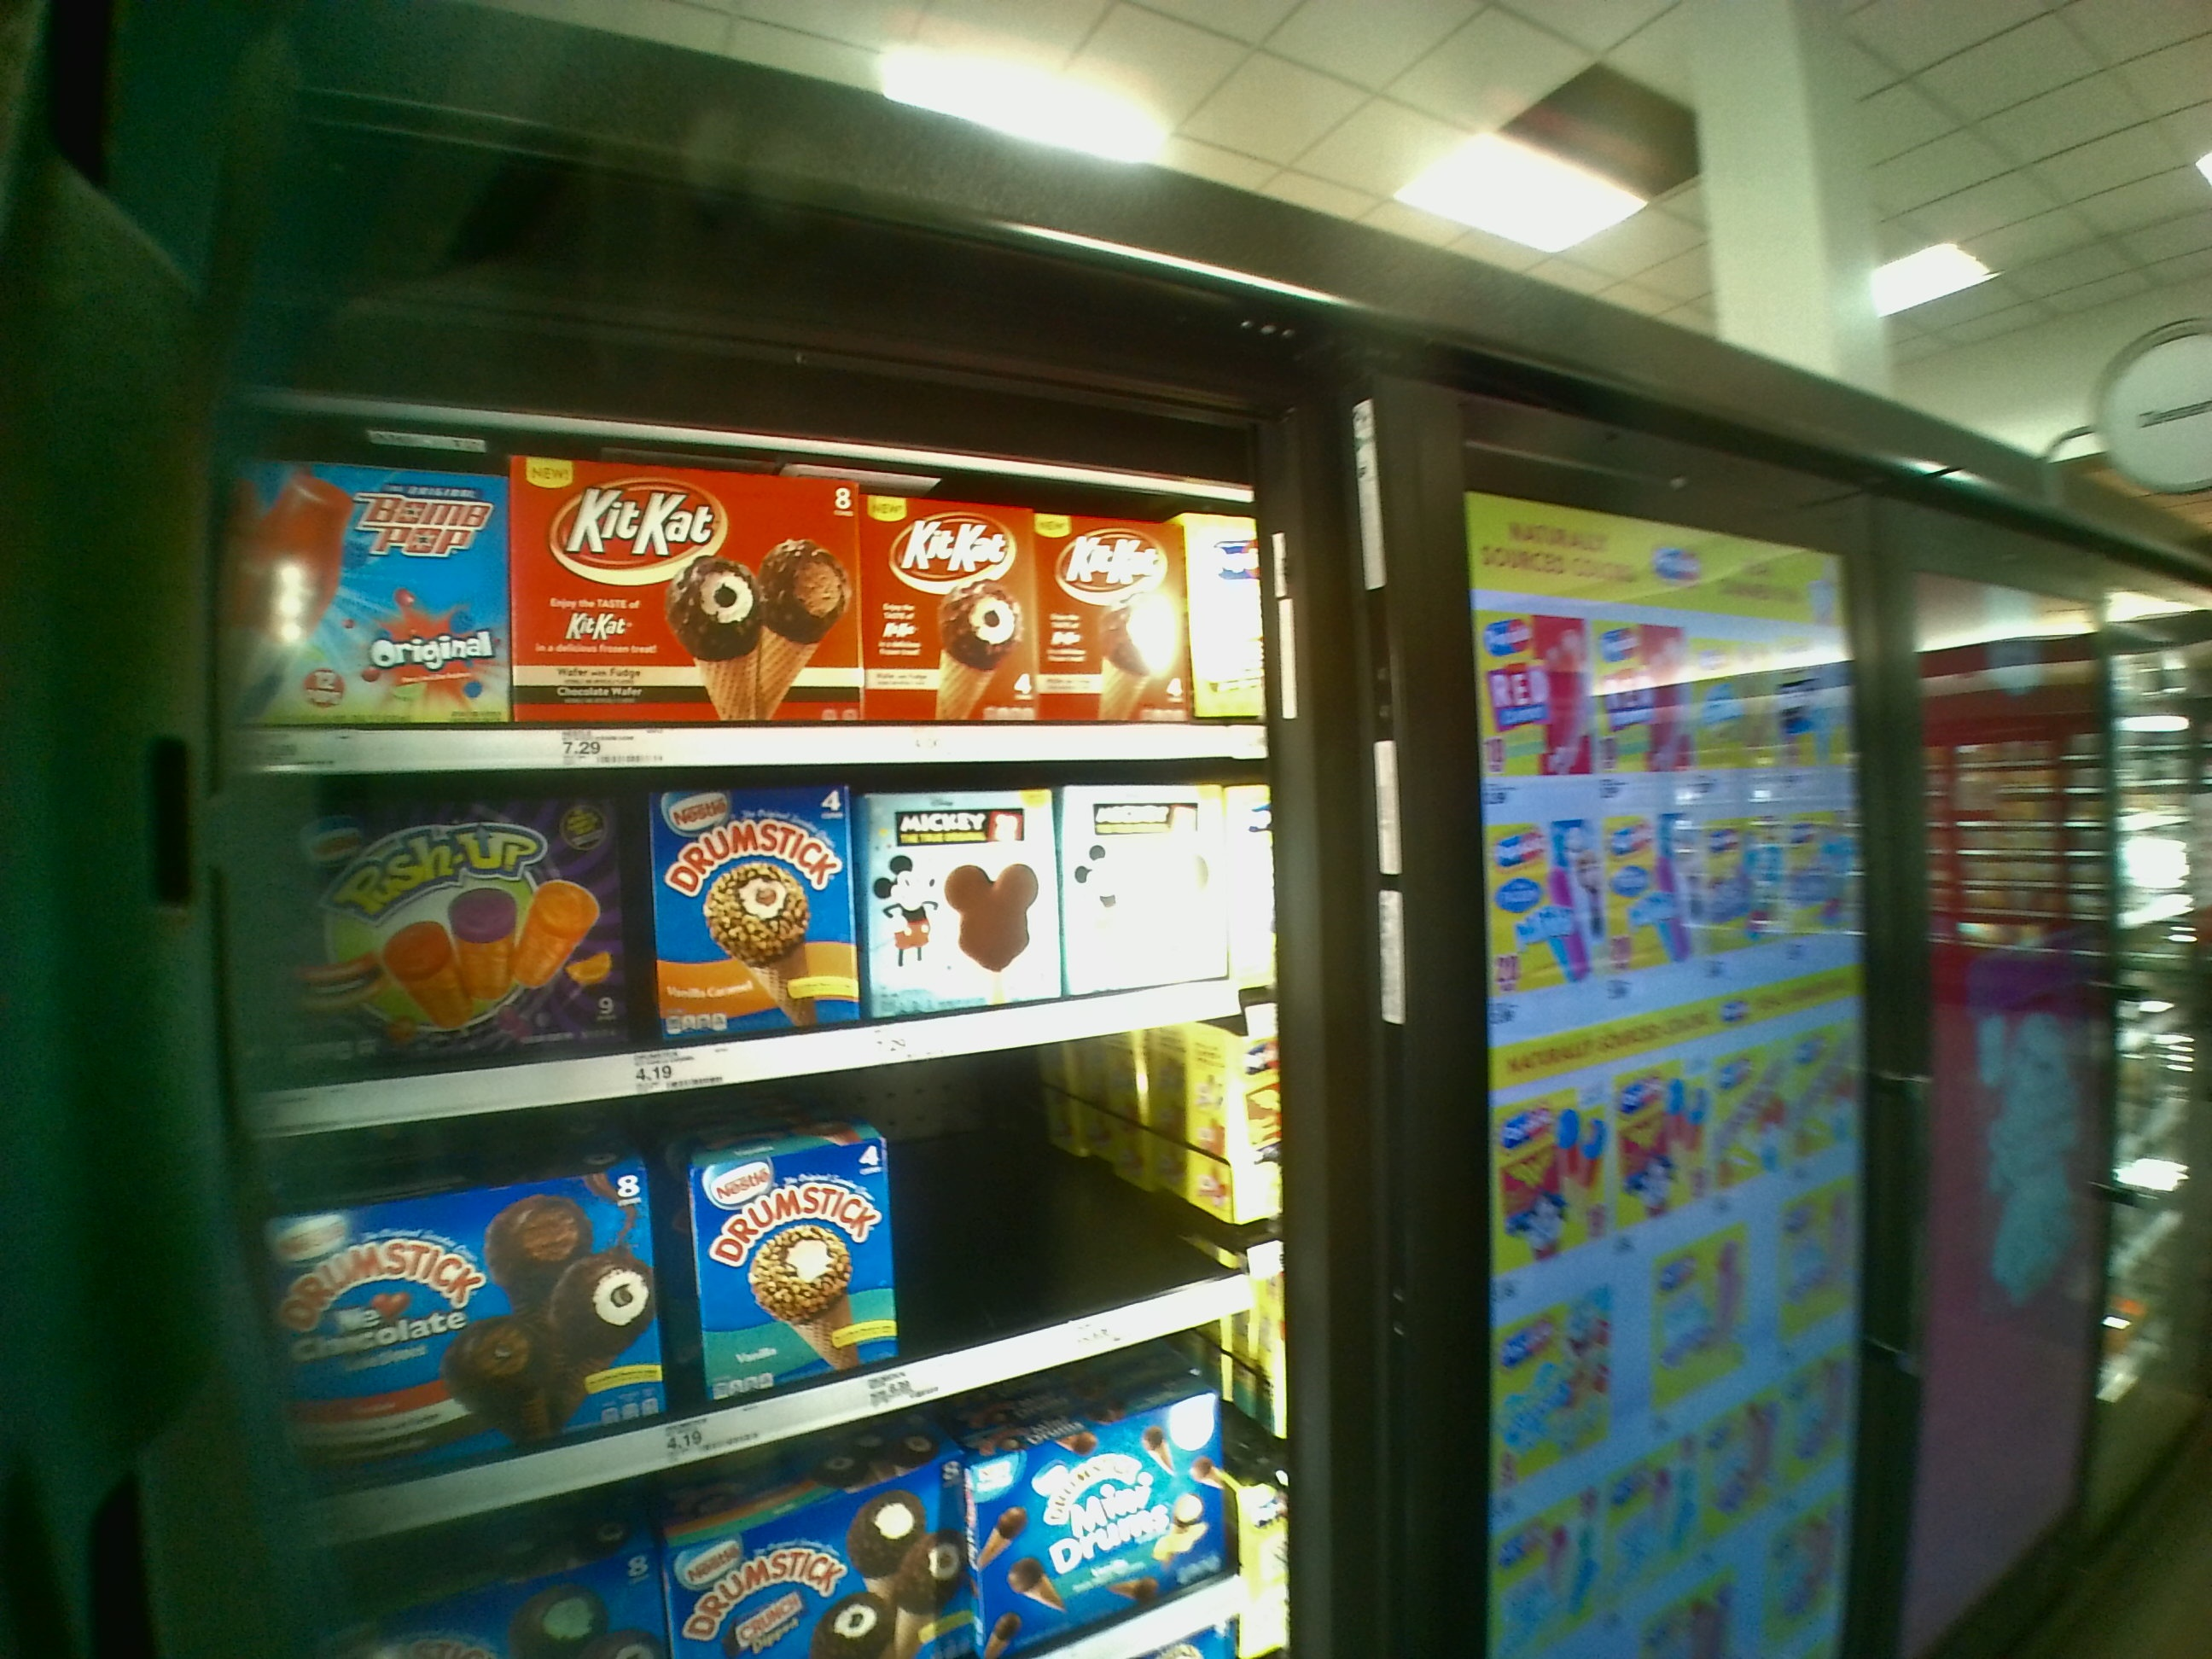shelf: (254, 1070, 1287, 1455), (206, 416, 1278, 769), (218, 774, 1277, 1068)
